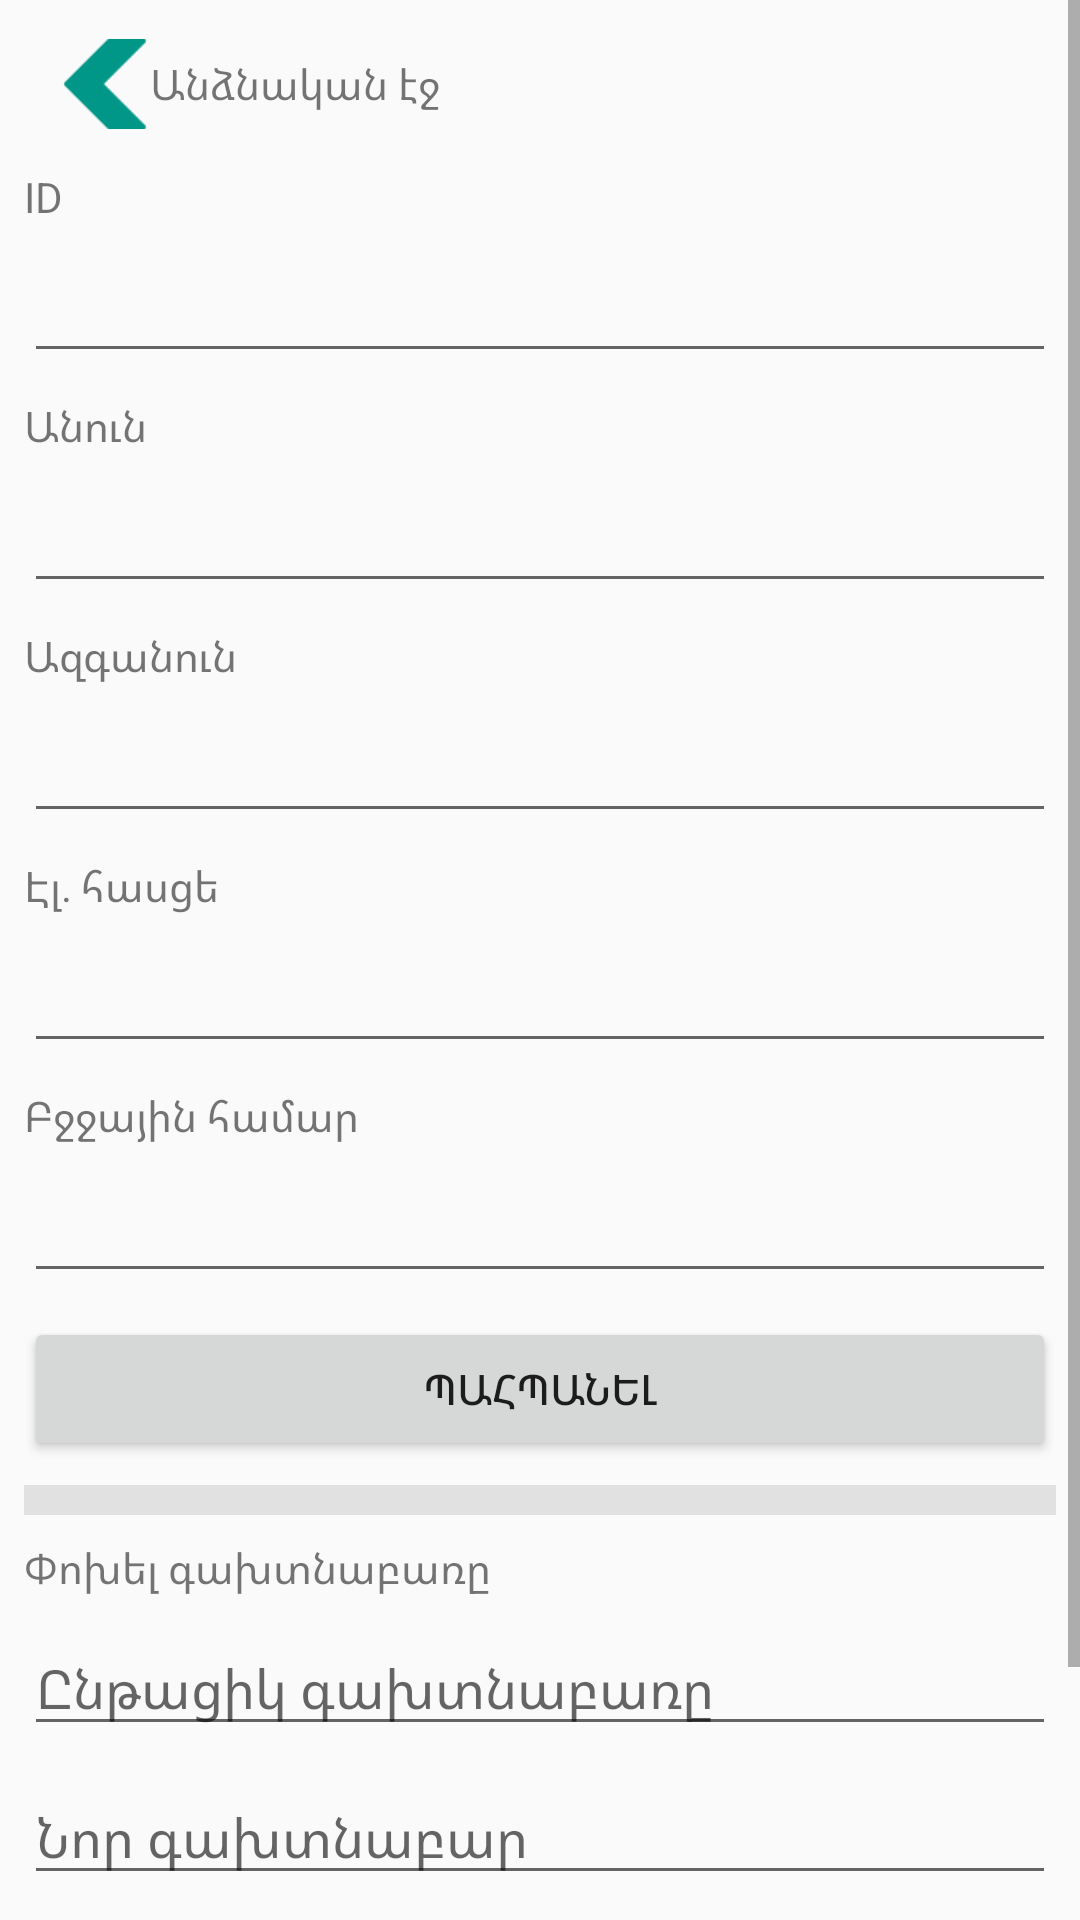

Screen size 1080 x 1920. Icon name, then its center in pixels as (x,y):
prev: (105,84)
